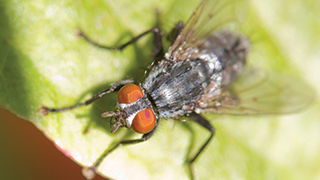house fly: (41, 18, 305, 167)
